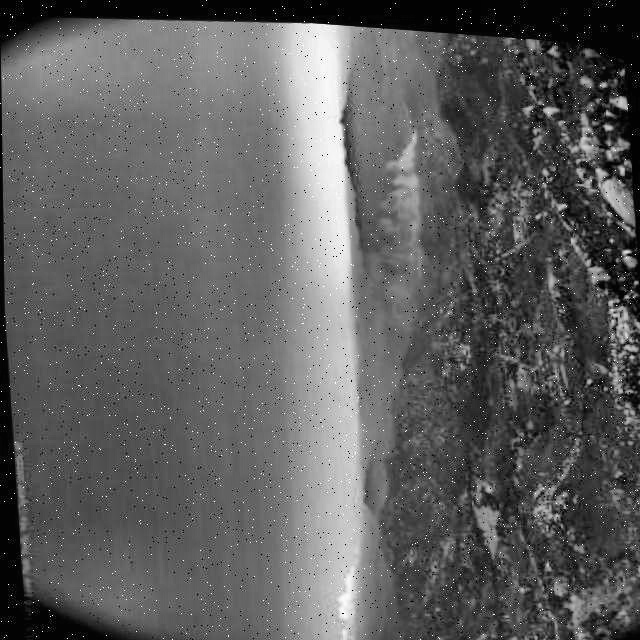Smoke: (357, 119, 434, 311)
